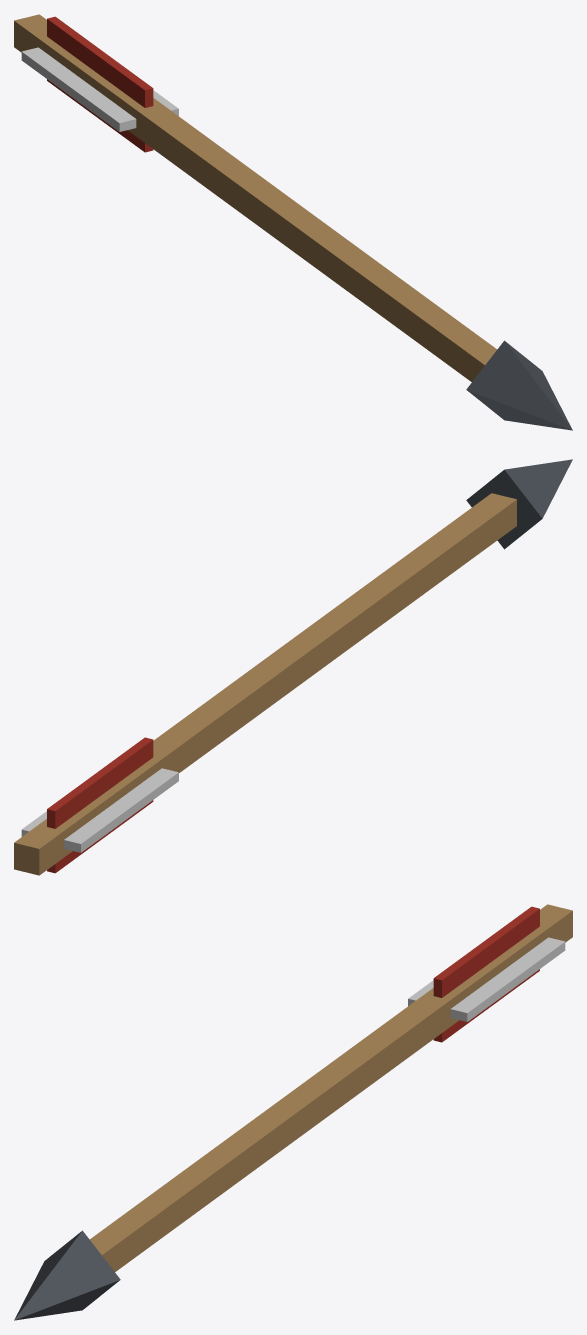
The model's file is fld_arrow.glb.
The picture shows the model from 3 angles, top to bottom: view 1: azimuth 30°, elevation 25°; view 2: azimuth 150°, elevation 25°; view 3: azimuth 330°, elevation 25°; orthographic projection.
Visible parts, largest first — view 1: fld_arrow; view 2: fld_arrow; view 3: fld_arrow.
Part boxes in pixels (x1,y1,x2,y2): fld_arrow: (14,14,572,430); fld_arrow: (14,459,572,875); fld_arrow: (14,904,572,1320).
Bounding box in the file's own units: 0.018 × 0.018 × 0.223.
